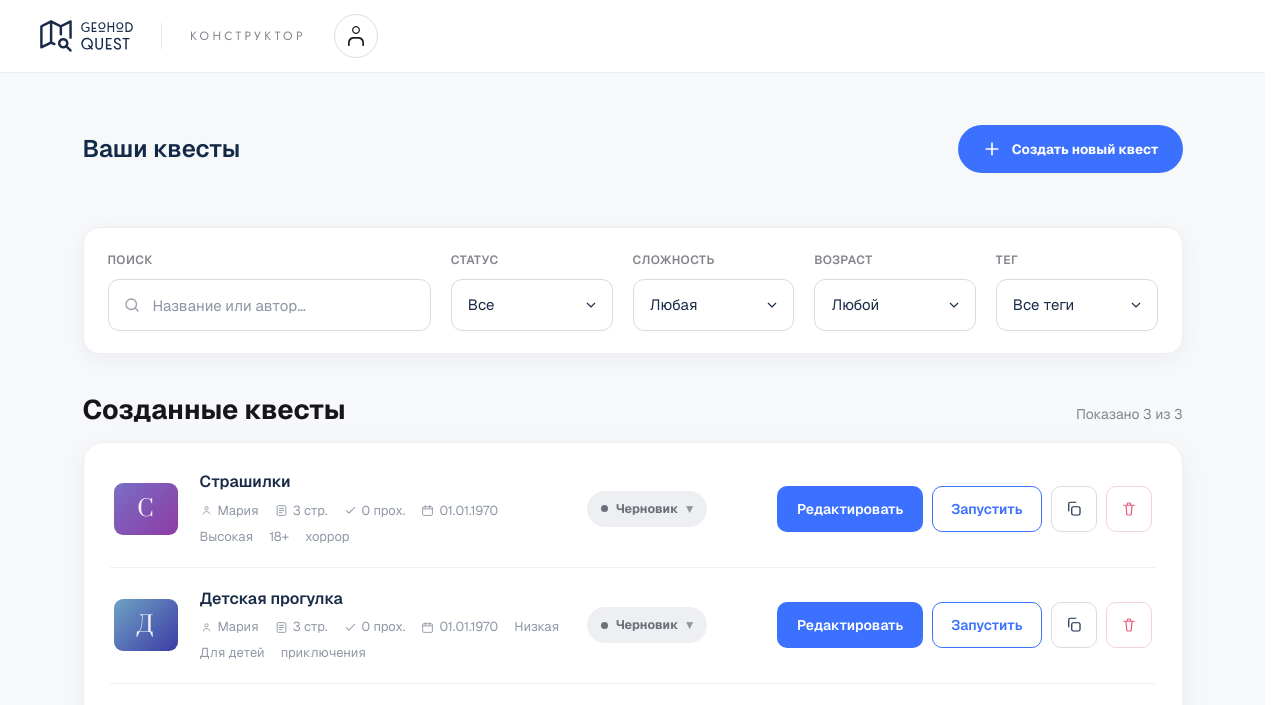
Scenario: Dashboard attribute filters › filters by age target
Step 1. Select "Для детей" in the dropdown labelled "Возраст" → [895, 305], box [814,279,976,331]
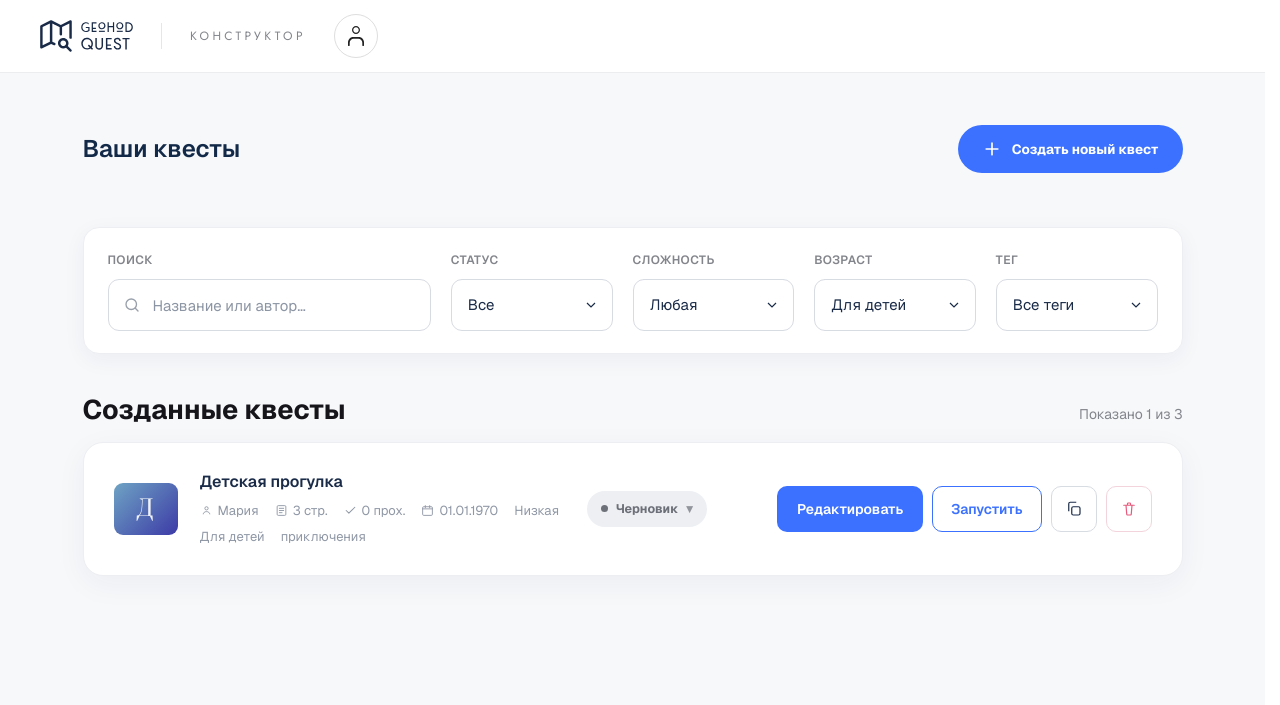
Expected: the text "Детская прогулка" is shown, [200,471,343,492]
Expected: the text "Страшилки" is gone
